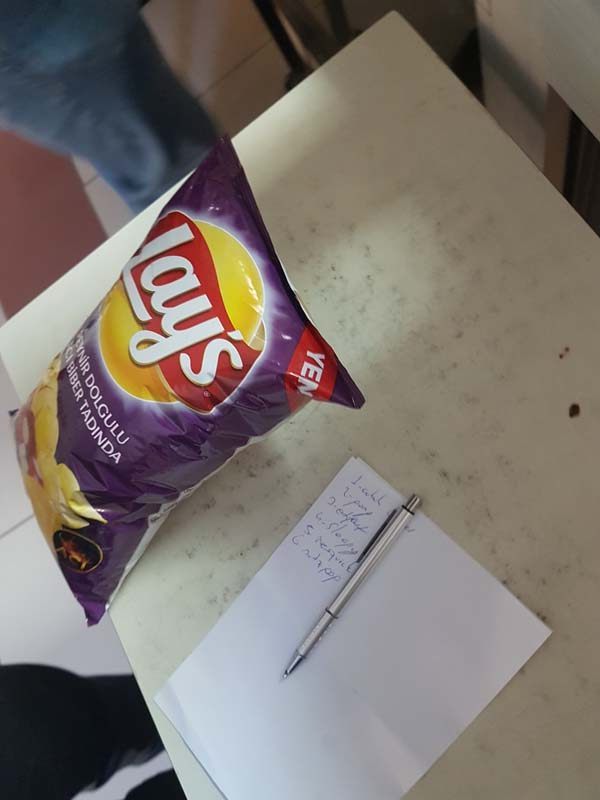layspeynirsoslu: (11, 130, 363, 624)
